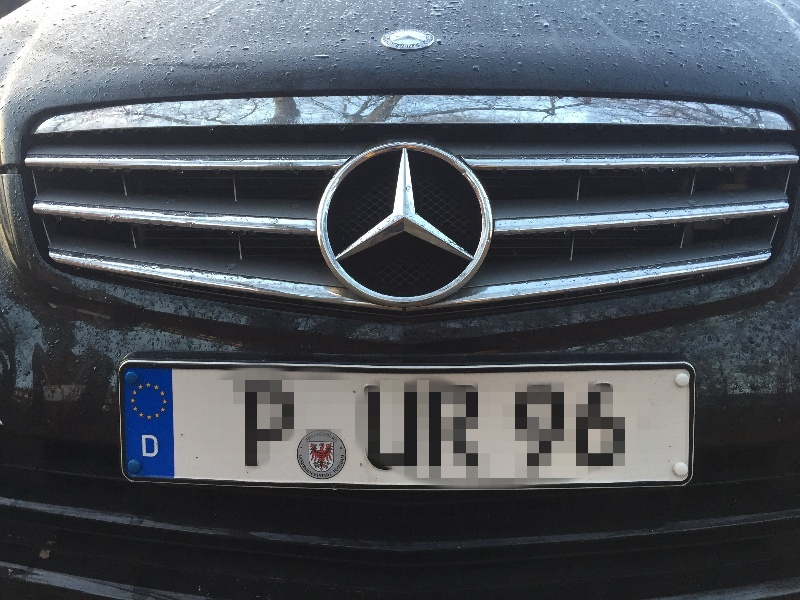text: (305, 454, 320, 479), (145, 436, 160, 458), (321, 454, 332, 479), (337, 454, 347, 476), (297, 454, 304, 479), (333, 454, 336, 476), (142, 436, 144, 458)
